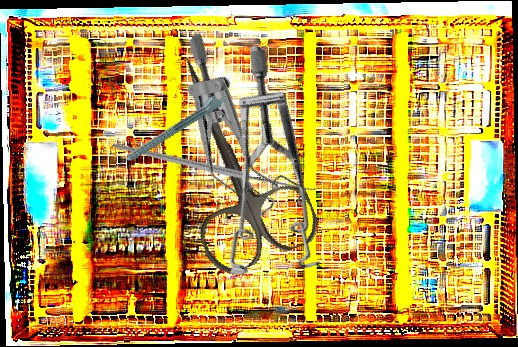Handpiece: (108, 88, 229, 173)
Hook Surgical: (111, 60, 323, 269)
Iris Scissors: (135, 35, 325, 280)
Speculum: (149, 43, 397, 309), (129, 29, 351, 235)
